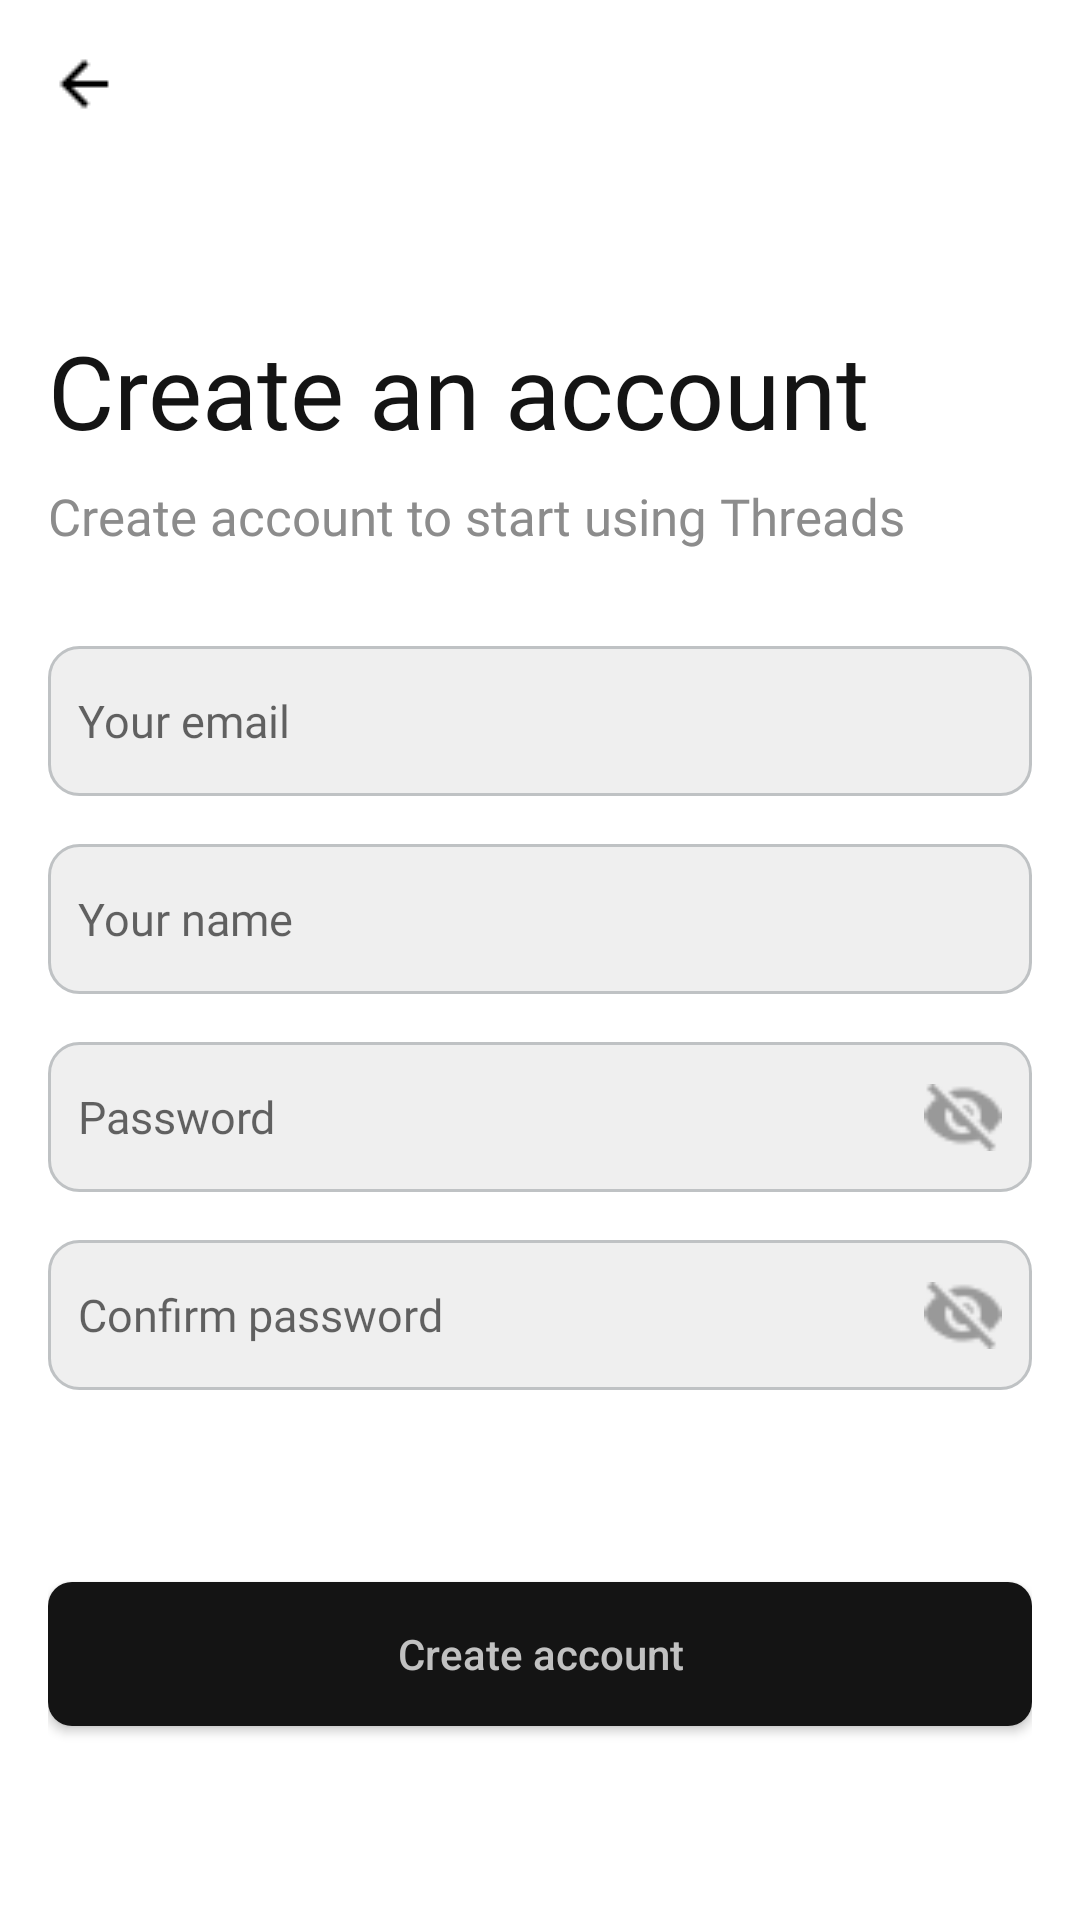

Where to tap for icons on this 1080 × 1920 app screen, as (x,y):
arrow left: (84,84)
